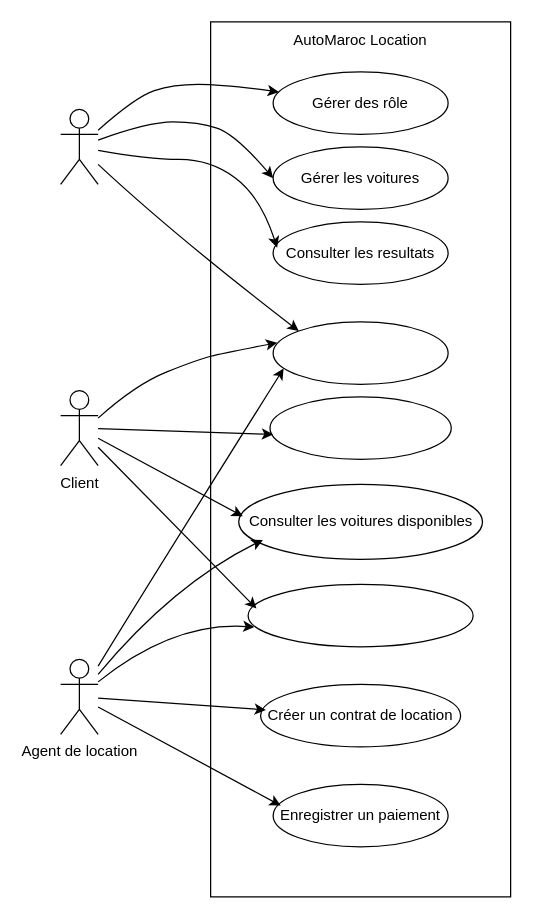
The diagram is 533 pixels wide and 919 high, and some of its shapes have lost their labels. The centre of each missing label's shape, as x and y in pixels:
"Administrateur" belongs at pixel 78 146.
"Modifier/annuler une réservation" belongs at pixel 360 615.
"Réserver une voiture" belongs at pixel 360 427.
"S'authentifier" belongs at pixel 360 352.
